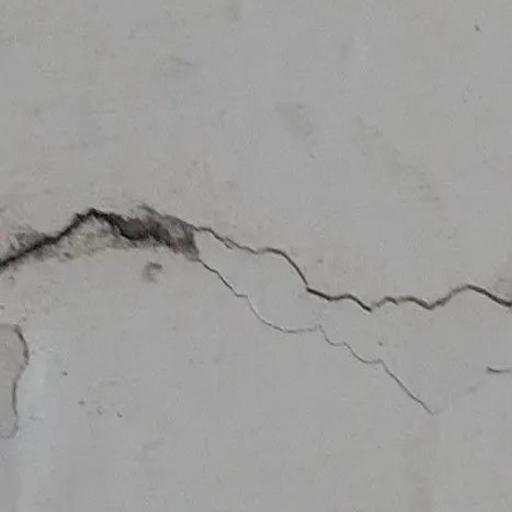major_crack: (0, 173, 512, 421)
